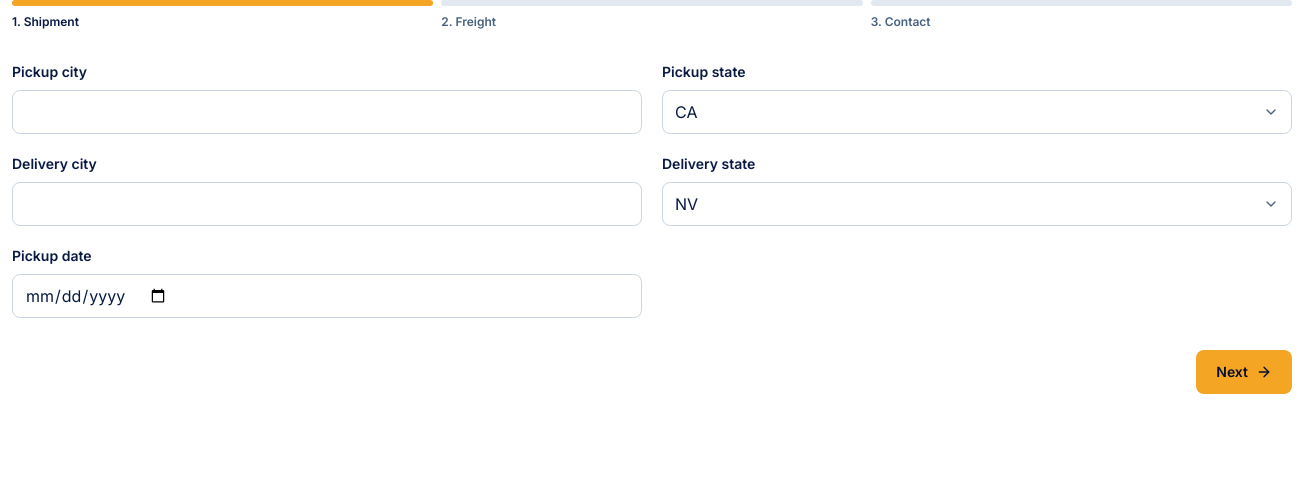
Test: FreightQuoteForm › renders and blocks invalid step progression
This screenshot has width=1304, height=489.
Expected: the text "1. Shipment" is shown, [12,14,79,29]
Click the button "Next" at (1244, 372), box [1196,350,1292,394]
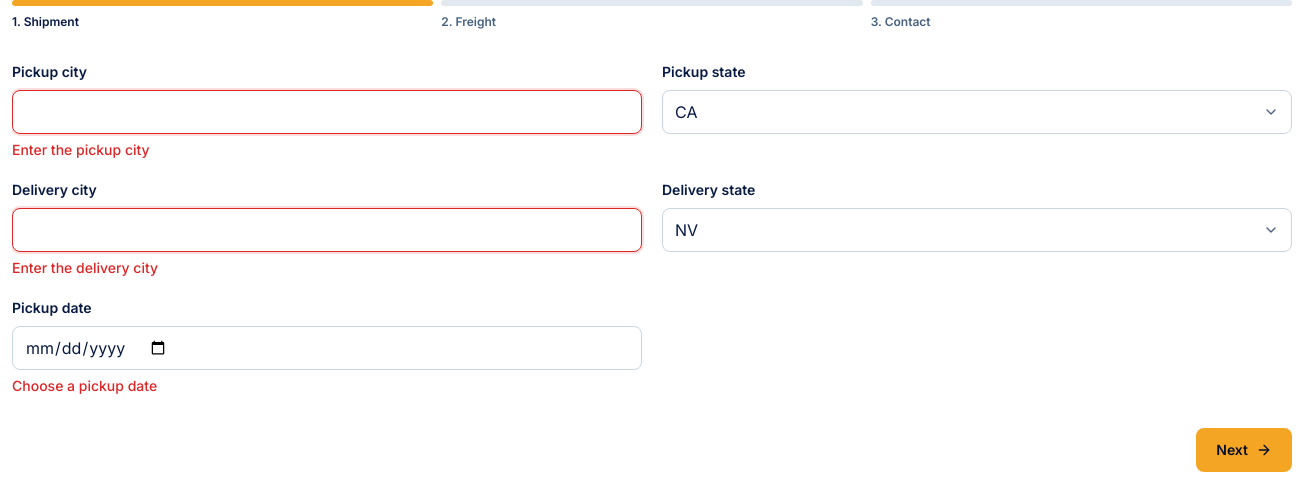
Expected: the text "Enter the pickup city" is shown, [12,141,150,158]
